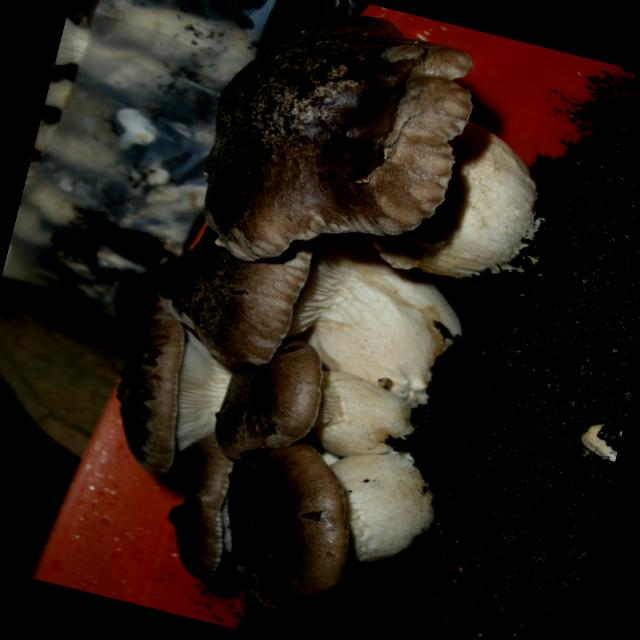Pleurotus eryngii: (184, 0, 575, 315), (151, 391, 481, 640), (160, 214, 480, 420)
